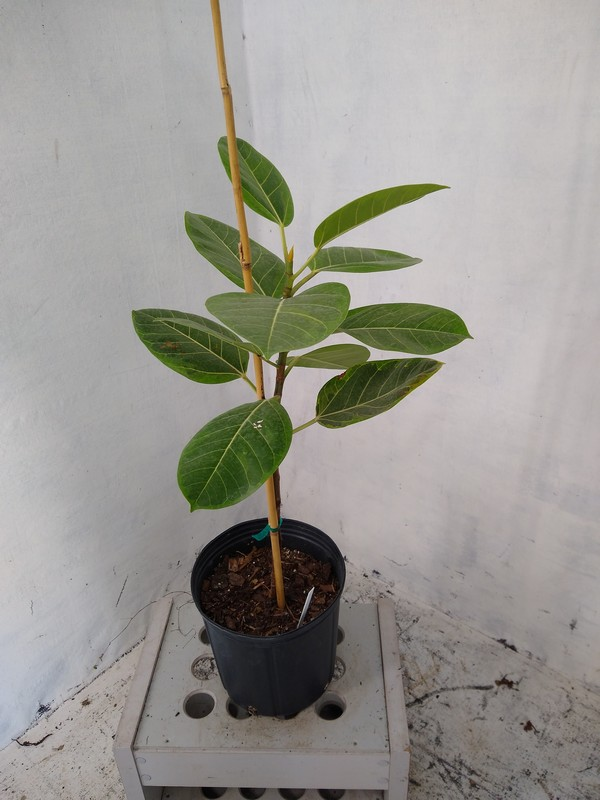plant: (128, 134, 478, 609)
pot: (190, 516, 347, 719)
